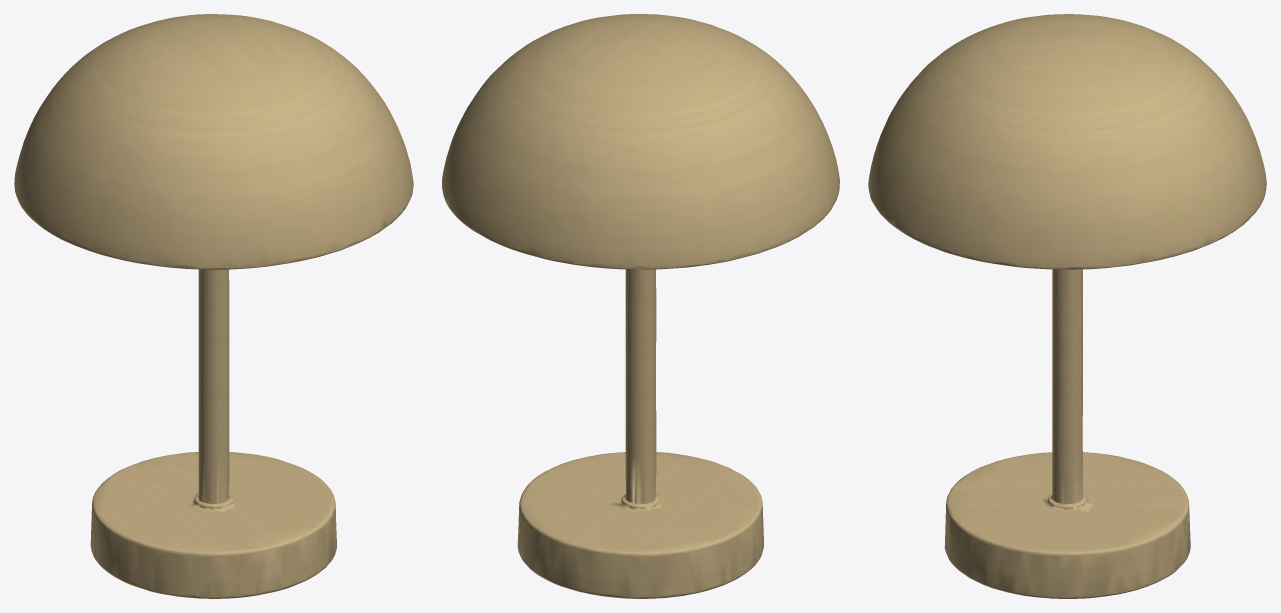
File: lamp.lod1.glb
3 renders of one model, left to right at view 1: azimuth 30°, elevation 25°; view 2: azimuth 150°, elevation 25°; view 3: azimuth 270°, elevation 25°, orthographic.
Parts seen in each view (by area): view 1: tripo_node_78f1ac23-4524-4043-8bfb-d6bcad0a56e8; view 2: tripo_node_78f1ac23-4524-4043-8bfb-d6bcad0a56e8; view 3: tripo_node_78f1ac23-4524-4043-8bfb-d6bcad0a56e8.
Part boxes in pixels (x1,y1,x2,y2): tripo_node_78f1ac23-4524-4043-8bfb-d6bcad0a56e8: [14, 14, 413, 598]; tripo_node_78f1ac23-4524-4043-8bfb-d6bcad0a56e8: [442, 14, 839, 598]; tripo_node_78f1ac23-4524-4043-8bfb-d6bcad0a56e8: [868, 14, 1266, 598].
Size of the model in its own units: 0.2962 by 0.42 by 0.2961.
1 material, 1 textured.
